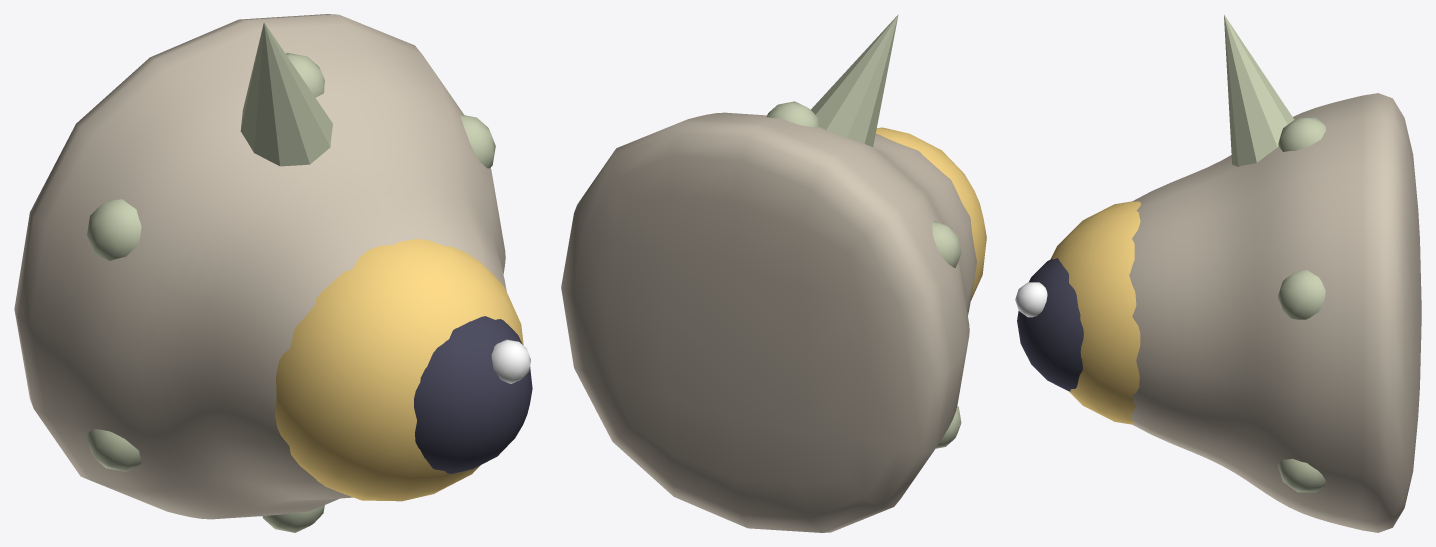
Rendered from creature.turreteye.glb.
The picture shows the model from 3 angles, left to right: view 1: azimuth 30°, elevation 25°; view 2: azimuth 150°, elevation 25°; view 3: azimuth 270°, elevation 25°; orthographic projection. The views are drawn at different scales.
Parts seen in each view (by area): view 1: Skin, Beak, ShellRim, Pupil, Glint; view 2: Skin, ShellRim, Beak; view 3: Skin, Beak, ShellRim, Pupil, Glint.
Boxes of the visible parts, bbox=[...] form: Skin: bbox=[14, 14, 506, 519]; Beak: bbox=[275, 239, 523, 501]; ShellRim: bbox=[87, 22, 495, 532]; Pupil: bbox=[414, 316, 532, 473]; Glint: bbox=[491, 339, 530, 383]; Skin: bbox=[561, 112, 976, 532]; ShellRim: bbox=[766, 14, 961, 448]; Beak: bbox=[876, 127, 986, 300]; Skin: bbox=[1129, 93, 1421, 532]; Beak: bbox=[1050, 201, 1140, 424]; ShellRim: bbox=[1224, 14, 1325, 492]; Pupil: bbox=[1017, 258, 1083, 391]; Glint: bbox=[1015, 282, 1047, 317].
Size of the model in its own units: 2.35 by 2.78 by 2.2.
